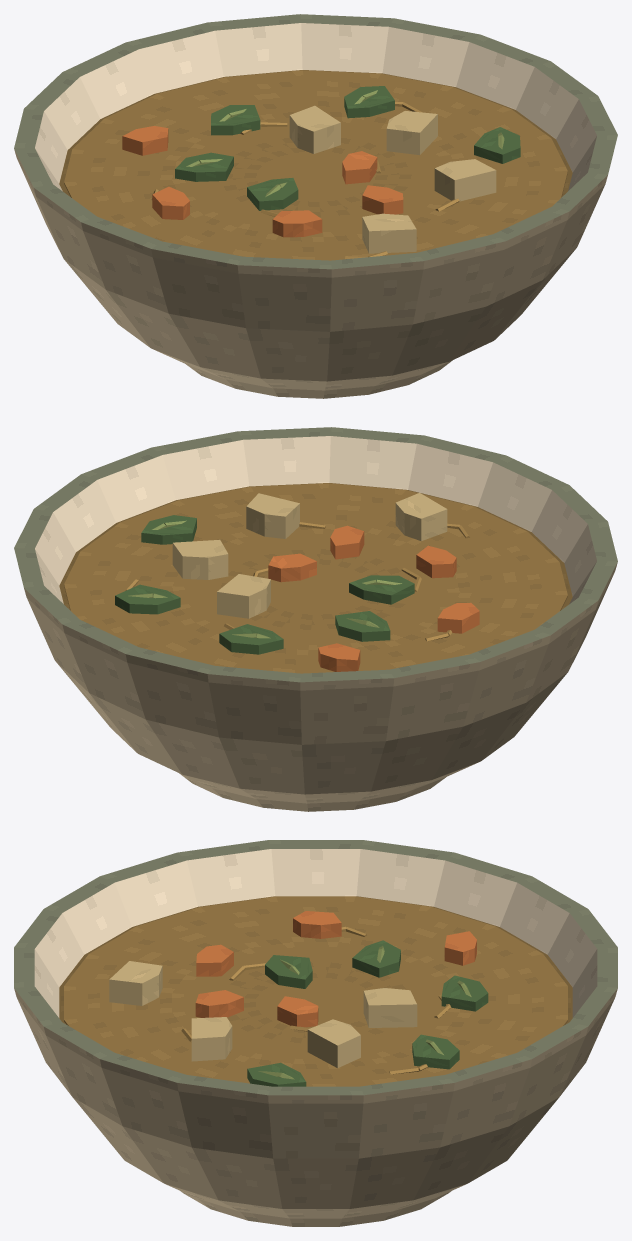
Rendered from soup_veggy.glb.
3 renders of one model, top to bottom at view 1: azimuth 30°, elevation 25°; view 2: azimuth 150°, elevation 25°; view 3: azimuth 270°, elevation 25°, orthographic.
Parts seen in each view (by area): view 1: block_deep open soup bowl, block_soup surface, block_potato piece (×4), block_folded greens (×5), block_carrot piece (×5), block_shaded liquid meniscus; view 2: block_deep open soup bowl, block_soup surface, block_potato piece (×4), block_folded greens (×5), block_carrot piece (×5), block_shaded liquid meniscus; view 3: block_deep open soup bowl, block_soup surface, block_potato piece (×4), block_folded greens (×5), block_carrot piece (×5), block_shaded liquid meniscus.
Part boxes in pixels (x1=…): block_deep open soup bowl: x1=14, y1=14, x2=617, y2=398; block_soup surface: x1=64, y1=70, x2=567, y2=260; block_potato piece (×4): x1=289, y1=105, x2=496, y2=253; block_folded greens (×5): x1=175, y1=86, x2=520, y2=210; block_carrot piece (×5): x1=122, y1=126, x2=403, y2=237; block_shaded liquid meniscus: x1=59, y1=70, x2=572, y2=196; block_deep open soup bowl: x1=14, y1=427, x2=617, y2=811; block_soup surface: x1=64, y1=483, x2=567, y2=673; block_potato piece (×4): x1=172, y1=492, x2=447, y2=618; block_folded greens (×5): x1=115, y1=515, x2=414, y2=654; block_carrot piece (×5): x1=268, y1=525, x2=479, y2=671; block_shaded liquid meniscus: x1=59, y1=483, x2=572, y2=609; block_deep open soup bowl: x1=14, y1=840, x2=617, y2=1226; block_soup surface: x1=64, y1=896, x2=567, y2=1086; block_potato piece (×4): x1=109, y1=961, x2=417, y2=1068; block_folded greens (×5): x1=247, y1=940, x2=488, y2=1086; block_carrot piece (×5): x1=195, y1=911, x2=476, y2=1027; block_shaded liquid meniscus: x1=59, y1=896, x2=572, y2=1023.
Bounding box in the file's own units: 0.1437 × 0.0517 × 0.1437.
Materials: 1 (1 with a texture image).
